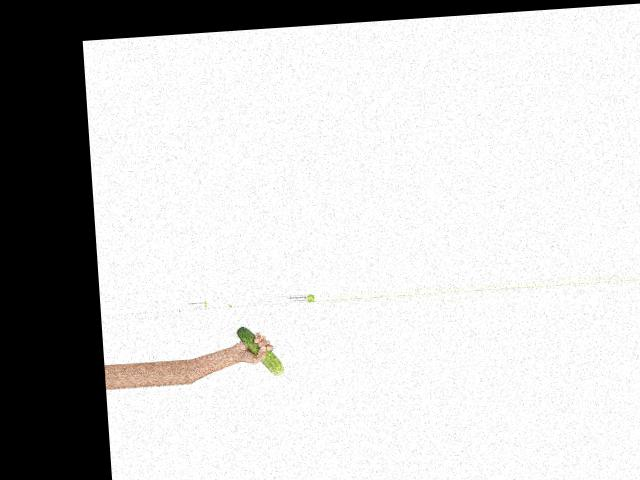cucumber: (234, 323, 283, 377)
